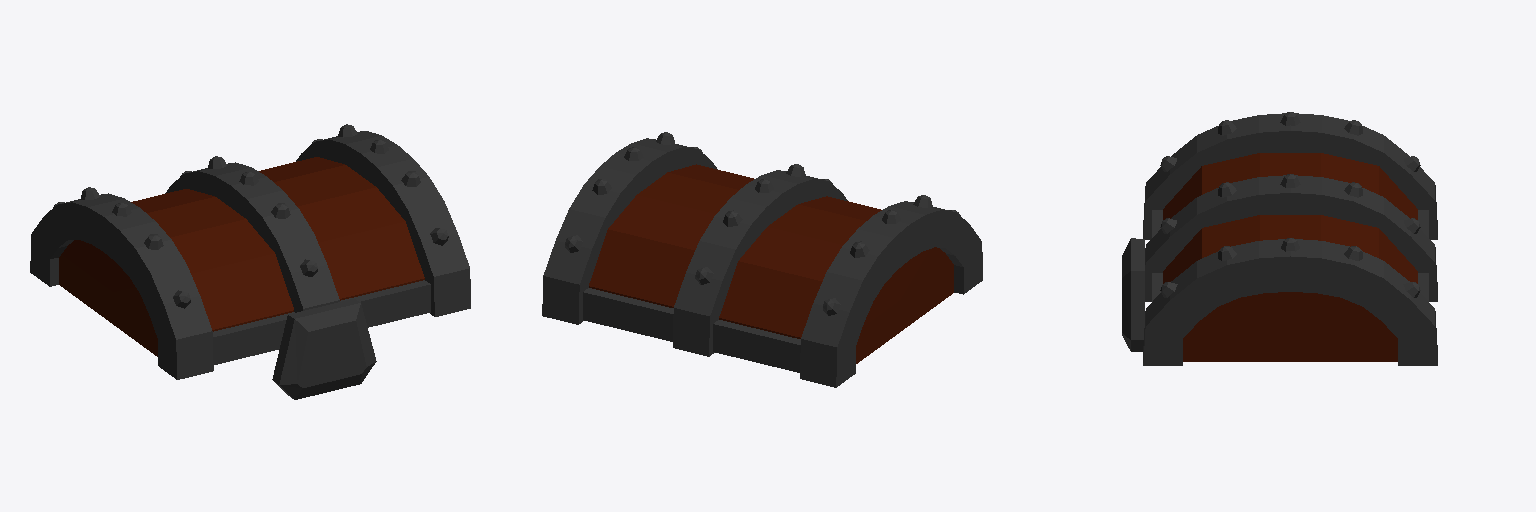
The model's file is Box_Top.obj.
The picture shows the model from 3 angles: view 1: azimuth 30°, elevation 25°; view 2: azimuth 150°, elevation 25°; view 3: azimuth 270°, elevation 25°; orthographic projection.
Visible parts, largest first — view 1: Box_Top; view 2: Box_Top; view 3: Box_Top.
Boxes of the visible parts, box(x1,y1,x2,y2) form: Box_Top: box(30, 124, 470, 399); Box_Top: box(542, 132, 982, 387); Box_Top: box(1122, 112, 1437, 365).
Size of the model in its own units: 2.15 by 1.13 by 2.